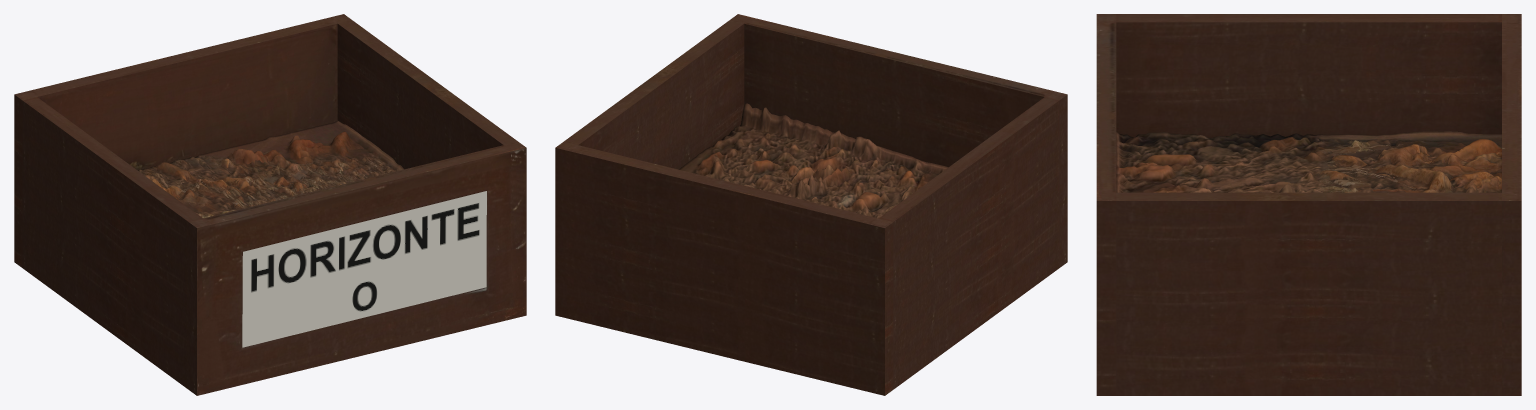
Rendered from horizonte_03_01_o.glb.
The picture shows the model from 3 angles, left to right: view 1: azimuth 30°, elevation 25°; view 2: azimuth 150°, elevation 25°; view 3: azimuth 270°, elevation 25°; orthographic projection. The views are drawn at different scales.
Parts seen in each view (by area): view 1: Parede_Frontal_h01, Lateral_Esquerda_h01, Parede_Traseira_h01, Etiqueta_h01, Lateral_Direita_h01, Conteudo_h01; view 2: Parede_Traseira_h01, Lateral_Esquerda_h01, Parede_Frontal_h01, Conteudo_h01, Lateral_Direita_h01; view 3: Lateral_Direita_h01, Lateral_Esquerda_h01, Conteudo_h01, Parede_Frontal_h01, Parede_Traseira_h01.
Boxes of the visible parts, x1=… form: Parede_Frontal_h01: x1=188, y1=141, x2=526, y2=395; Lateral_Esquerda_h01: x1=22, y1=97, x2=202, y2=389; Parede_Traseira_h01: x1=14, y1=14, x2=351, y2=267; Etiqueta_h01: x1=242, y1=191, x2=486, y2=347; Lateral_Direita_h01: x1=337, y1=20, x2=517, y2=169; Conteudo_h01: x1=138, y1=120, x2=403, y2=218; Parede_Traseira_h01: x1=555, y1=141, x2=893, y2=395; Lateral_Esquerda_h01: x1=879, y1=97, x2=1059, y2=389; Parede_Frontal_h01: x1=730, y1=14, x2=1067, y2=267; Conteudo_h01: x1=679, y1=103, x2=948, y2=218; Lateral_Direita_h01: x1=564, y1=20, x2=744, y2=169; Lateral_Direita_h01: x1=1116, y1=192, x2=1501, y2=395; Lateral_Esquerda_h01: x1=1116, y1=14, x2=1501, y2=138; Conteudo_h01: x1=1116, y1=131, x2=1501, y2=192; Parede_Frontal_h01: x1=1096, y1=14, x2=1116, y2=395; Parede_Traseira_h01: x1=1502, y1=14, x2=1521, y2=395.
Bounding box in the file's own units: 0.3 × 0.1459 × 0.2883.
3 materials, 3 textured.
